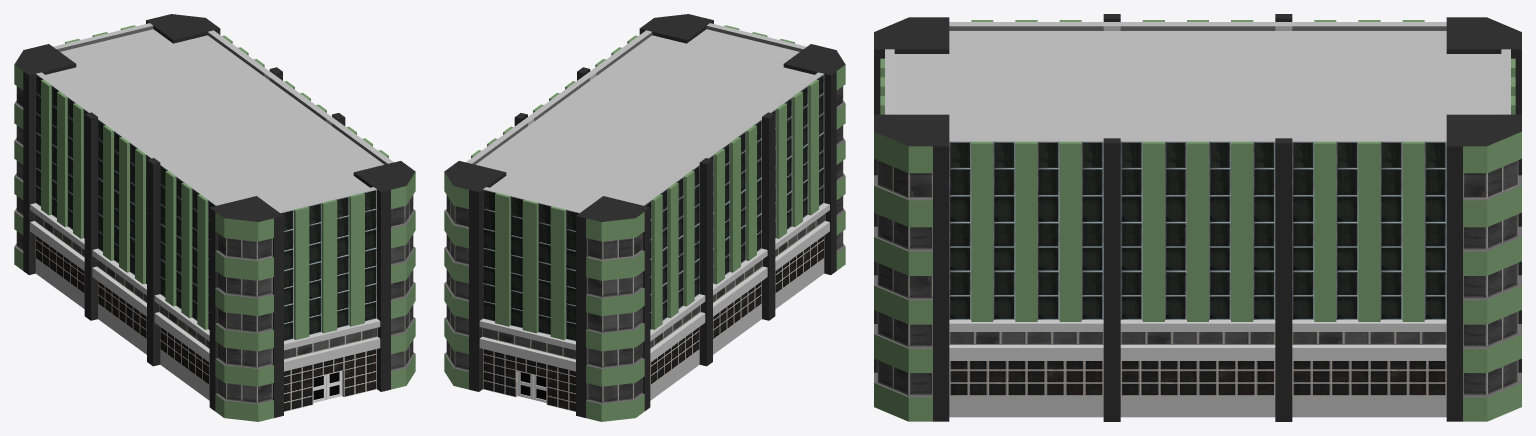
3 renders of one model, left to right at view 1: azimuth 30°, elevation 25°; view 2: azimuth 150°, elevation 25°; view 3: azimuth 270°, elevation 25°, orthographic. The views are drawn at different scales.
Visible parts, largest first — view 1: Building; view 2: Building; view 3: Building.
Boxes of the visible parts, x1,y1,x2,y2 form: Building: [14, 14, 415, 421]; Building: [444, 14, 845, 421]; Building: [874, 14, 1521, 421].
Size of what is drawn, in the model's own units: 17.1 by 17.2 by 36.22.
